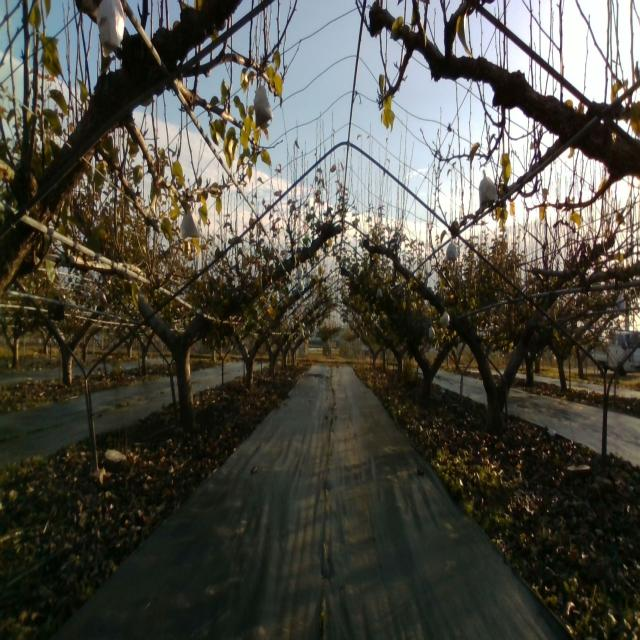pearbags: (94, 0, 125, 58), (253, 84, 273, 128), (479, 170, 498, 208), (180, 210, 201, 240), (446, 237, 458, 262)
